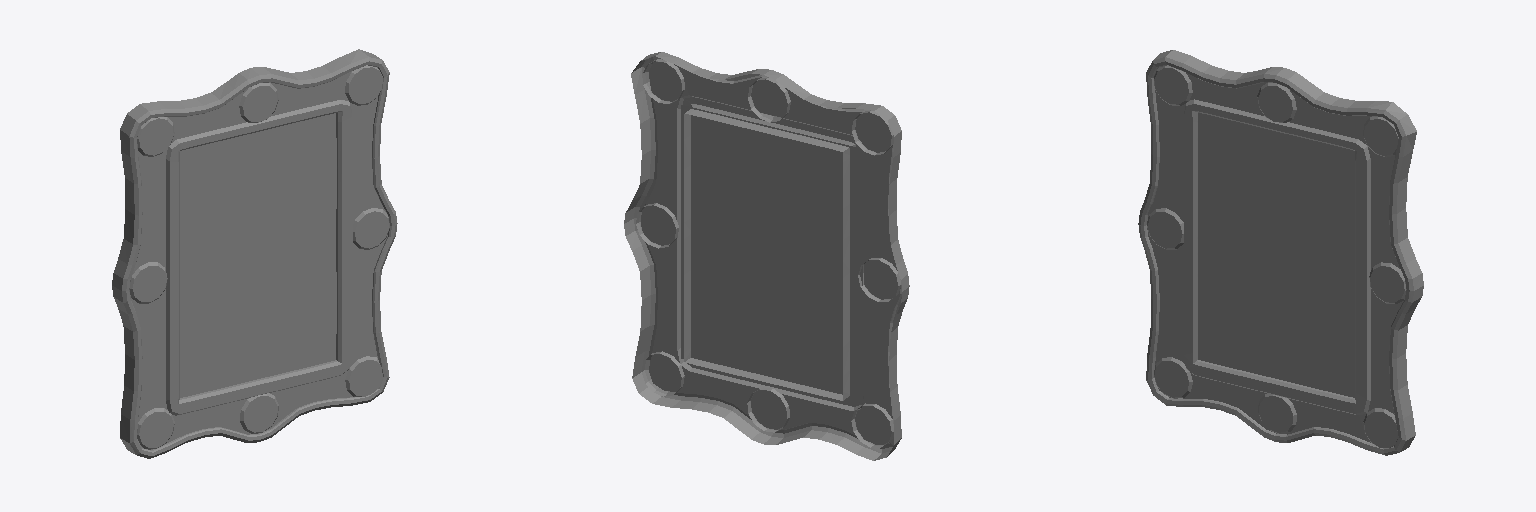
The model's file is Wall_Picture_B.obj.
3 renders of one model, left to right at view 1: azimuth 30°, elevation 25°; view 2: azimuth 150°, elevation 25°; view 3: azimuth 330°, elevation 25°, orthographic.
Visible parts, largest first — view 1: Wall_Picture_B; view 2: Wall_Picture_B; view 3: Wall_Picture_B.
Part boxes in pixels (bbox=[...]): Wall_Picture_B: bbox=[112, 49, 397, 458]; Wall_Picture_B: bbox=[624, 52, 909, 460]; Wall_Picture_B: bbox=[1138, 50, 1423, 455].
Bounding box in the file's own units: 121 × 154 × 7.42.